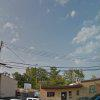Tree: (20, 57, 74, 81)
